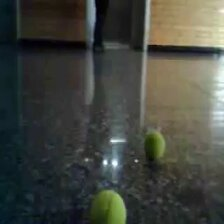tennis: (89, 189, 126, 224), (144, 132, 165, 160)
